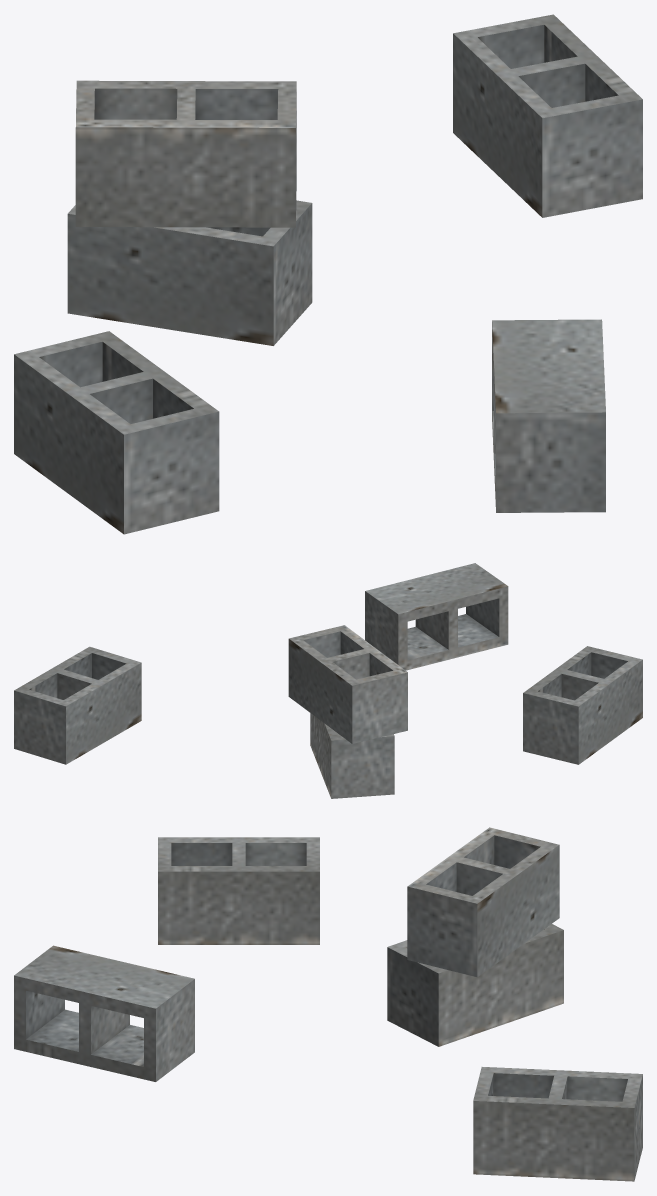
File: blocks.glb
The picture shows the model from 3 angles, top to bottom: view 1: azimuth 30°, elevation 25°; view 2: azimuth 150°, elevation 25°; view 3: azimuth 270°, elevation 25°; orthographic projection. The views are drawn at different scales.
Parts seen in each view (by area): view 1: Cube.002, Cube, Cube.004, Cube.001, Cube.003; view 2: Cube.003, Cube.004, Cube, Cube.002, Cube.001; view 3: Cube.003, Cube.004, Cube, Cube.002, Cube.001.
Boxes of the visible parts, x1=… form: Cube.002: x1=75, y1=80, x2=296, y2=227; Cube: x1=14, y1=331, x2=219, y2=534; Cube.004: x1=453, y1=14, x2=642, y2=217; Cube.001: x1=67, y1=200, x2=312, y2=345; Cube.003: x1=492, y1=319, x2=605, y2=512; Cube.003: x1=365, y1=563, x2=508, y2=670; Cube.004: x1=14, y1=646, x2=141, y2=764; Cube: x1=523, y1=646, x2=642, y2=764; Cube.002: x1=288, y1=625, x2=407, y2=743; Cube.001: x1=310, y1=713, x2=394, y2=798; Cube.003: x1=14, y1=945, x2=194, y2=1081; Cube.004: x1=473, y1=1067, x2=642, y2=1181; Cube: x1=158, y1=837, x2=319, y2=944; Cube.002: x1=407, y1=827, x2=559, y2=977; Cube.001: x1=387, y1=924, x2=563, y2=1046.
Bounding box in the file's own units: 1.59 × 0.4029 × 1.56.
Materials: 1 (1 with a texture image).
